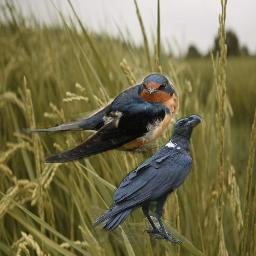Crow: (91, 113, 205, 244)
Swallow: (15, 72, 179, 163)
